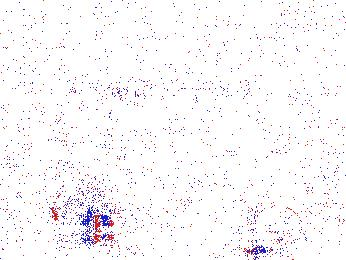flame jellyfish: (63, 119, 113, 183), (242, 204, 304, 255), (51, 189, 116, 230)
